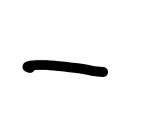minus: (23, 58, 107, 78)
